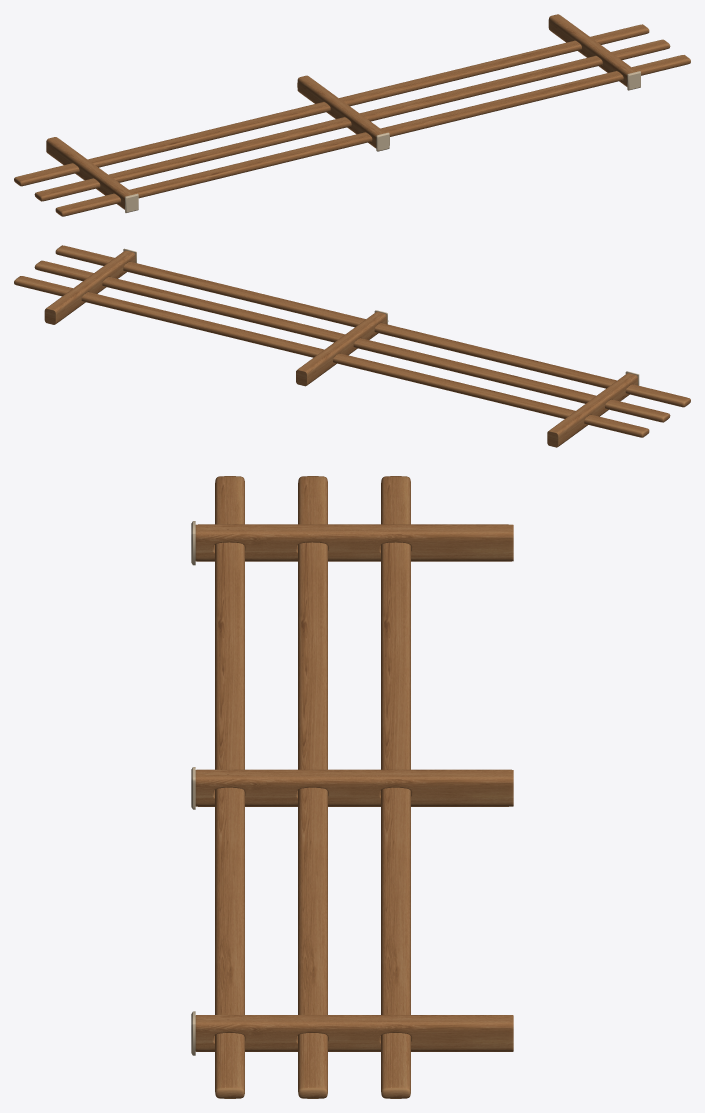
File: zbfbx.fbx
3 renders of one model, top to bottom at view 1: azimuth 30°, elevation 25°; view 2: azimuth 150°, elevation 25°; view 3: azimuth 270°, elevation 25°, orthographic. The views are drawn at different scales.
Parts seen in each view (by area): view 1: 13078_Wooden_Post_and_Rail_Fence_v1_l3; view 2: 13078_Wooden_Post_and_Rail_Fence_v1_l3; view 3: 13078_Wooden_Post_and_Rail_Fence_v1_l3.
Part boxes in pixels (x1,y1,x2,y2): 13078_Wooden_Post_and_Rail_Fence_v1_l3: (14,14,690,216); 13078_Wooden_Post_and_Rail_Fence_v1_l3: (14,245,690,447); 13078_Wooden_Post_and_Rail_Fence_v1_l3: (191,476,513,1098).
Bounding box in the file's own units: 27068 × 661 × 6008.
